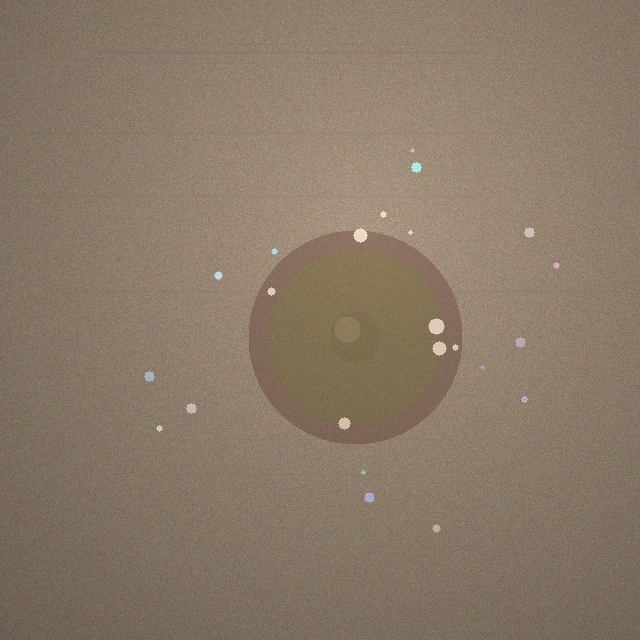overburn: (248, 230, 462, 444)
